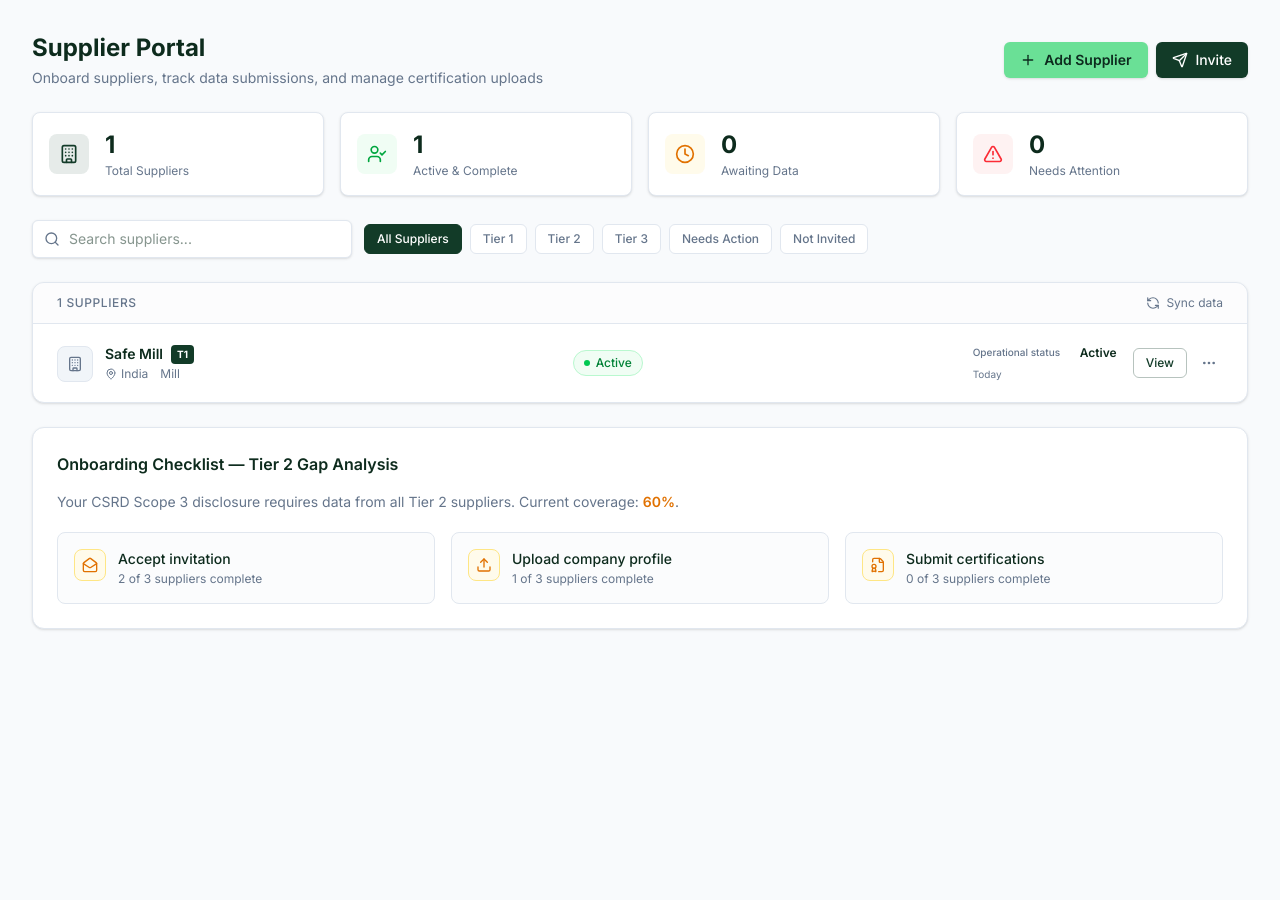
Test case: Supplier Portal access administration › maps active-access invite errors and never persists the generated token
The image size is (1280, 900).
Click the button with test id "button-invite-supplier" at coordinates (1202, 60), box [1156,42,1248,78]
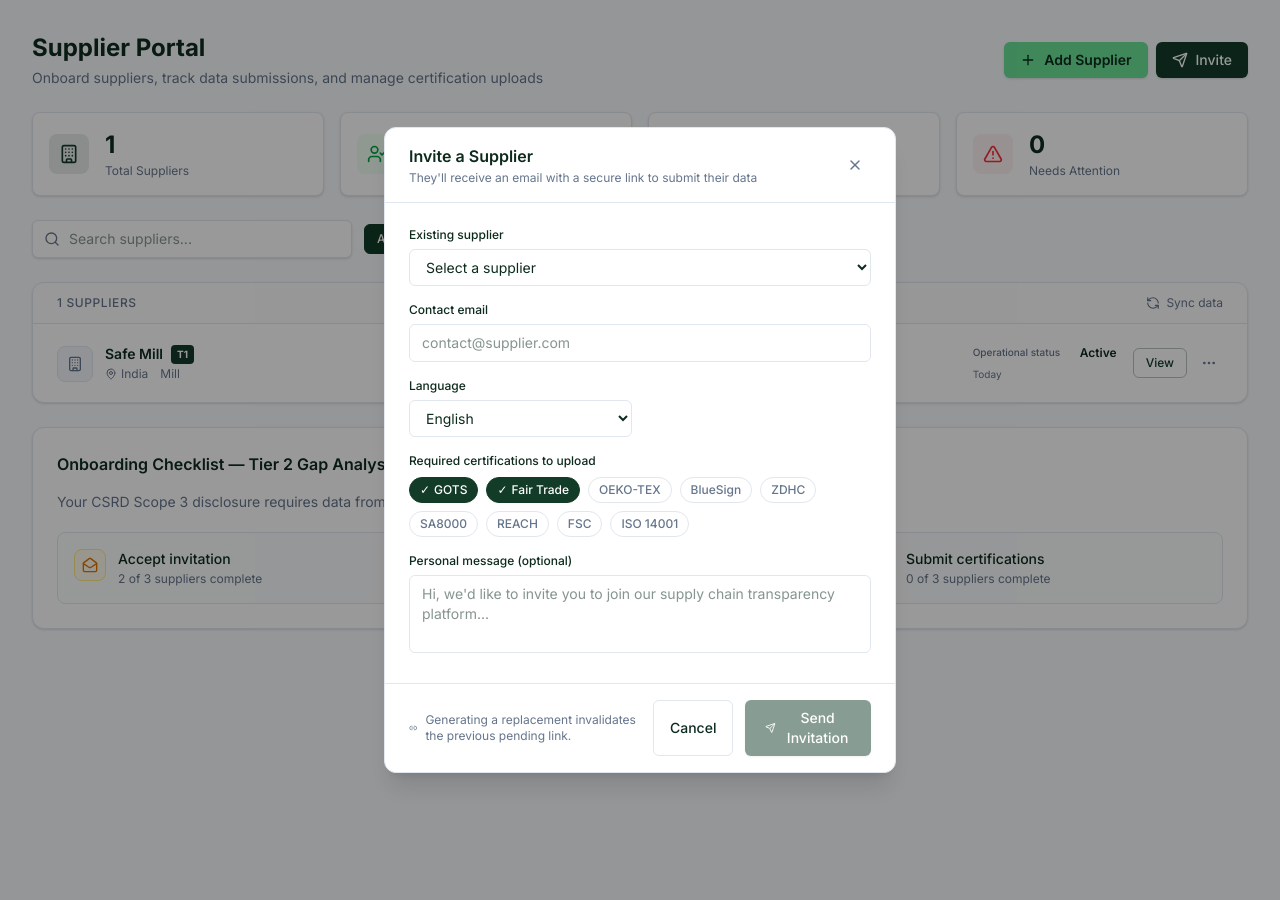
Select "Safe Mill" in the dropdown with test id "select-invite-supplier" at coordinates (640, 268), box [409,249,871,286]
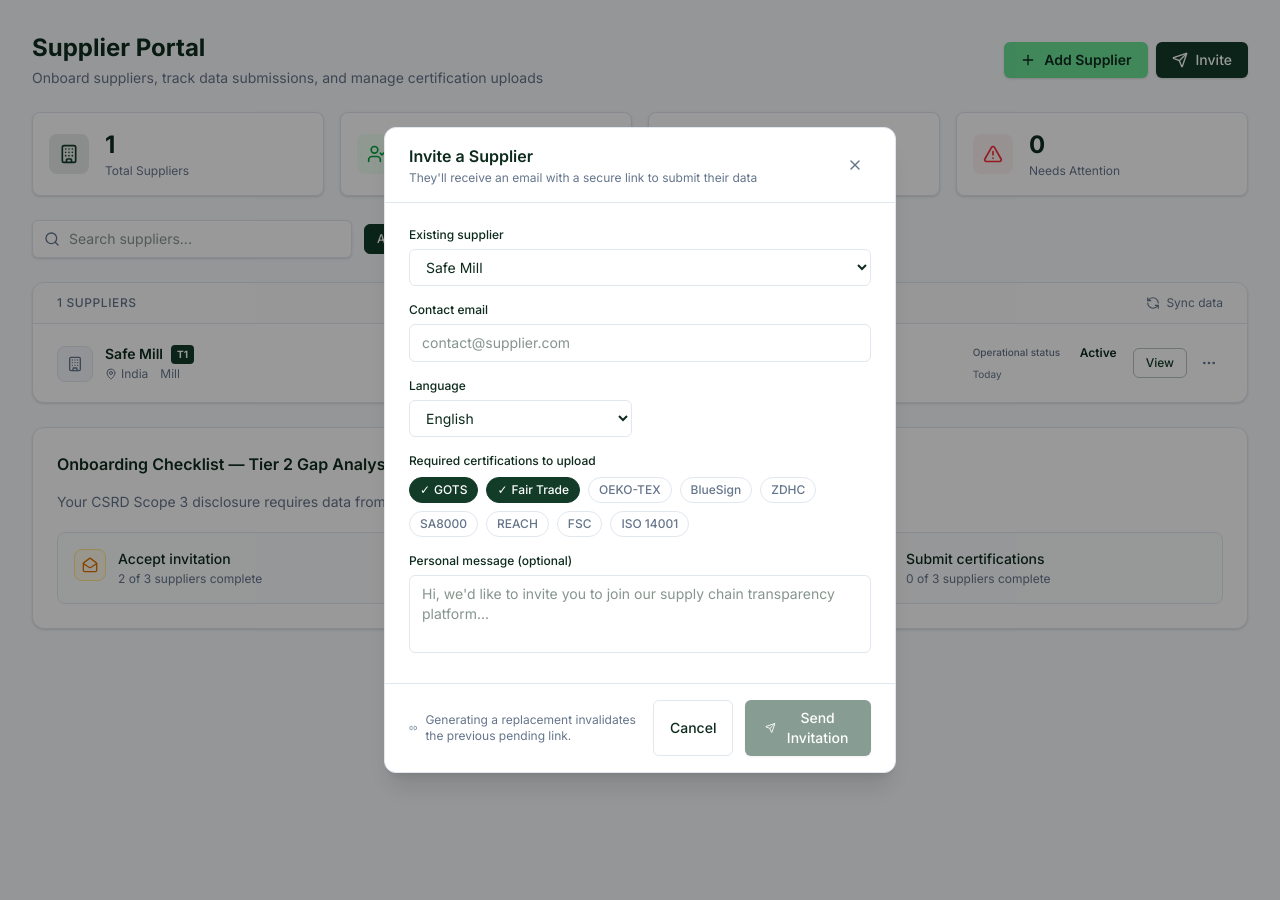
Type "alice@example.test" into the field with test id "input-invite-email" at coordinates (640, 343), box [409,324,871,362]
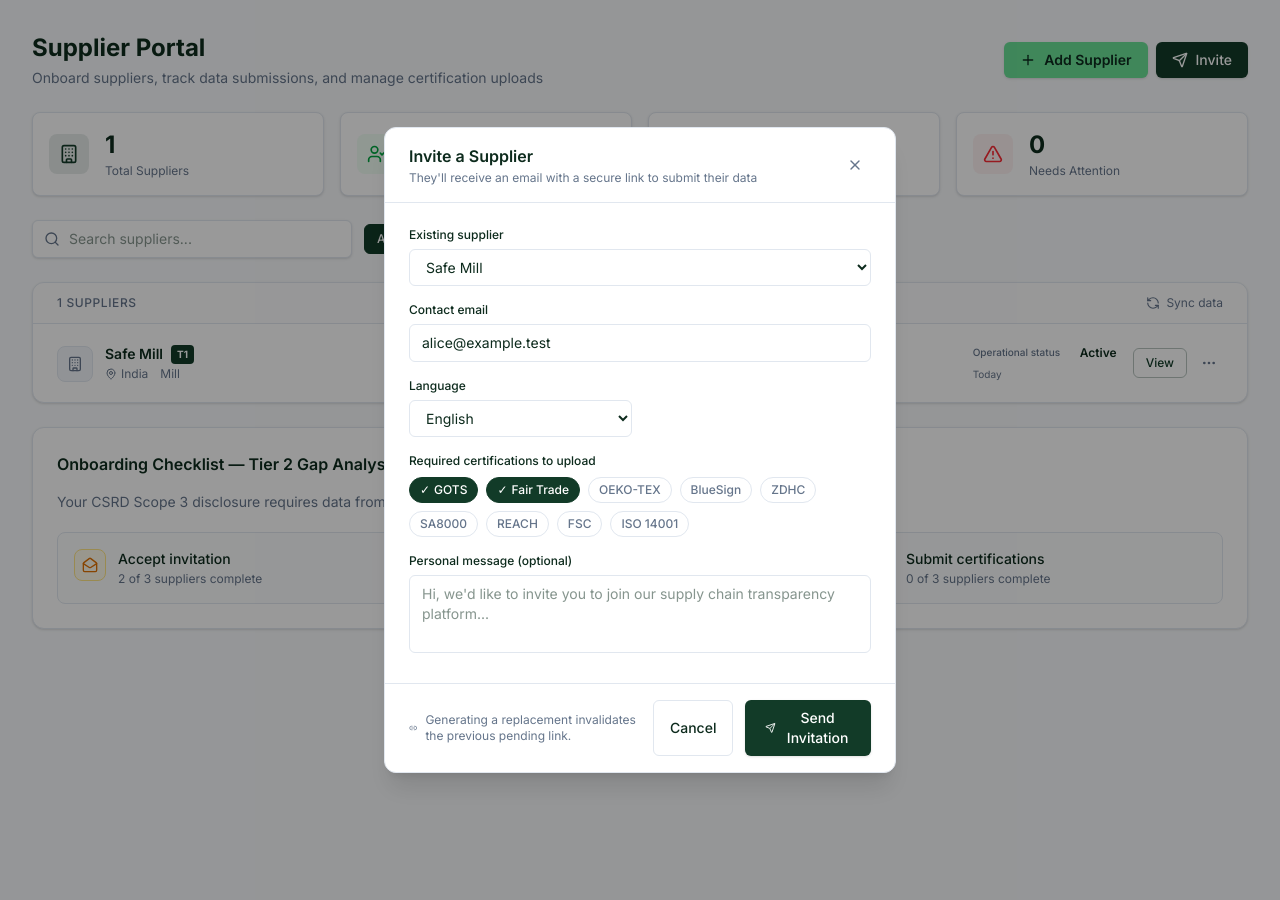
Click the button with test id "button-send-invite" at coordinates (808, 728), box [746,700,871,756]
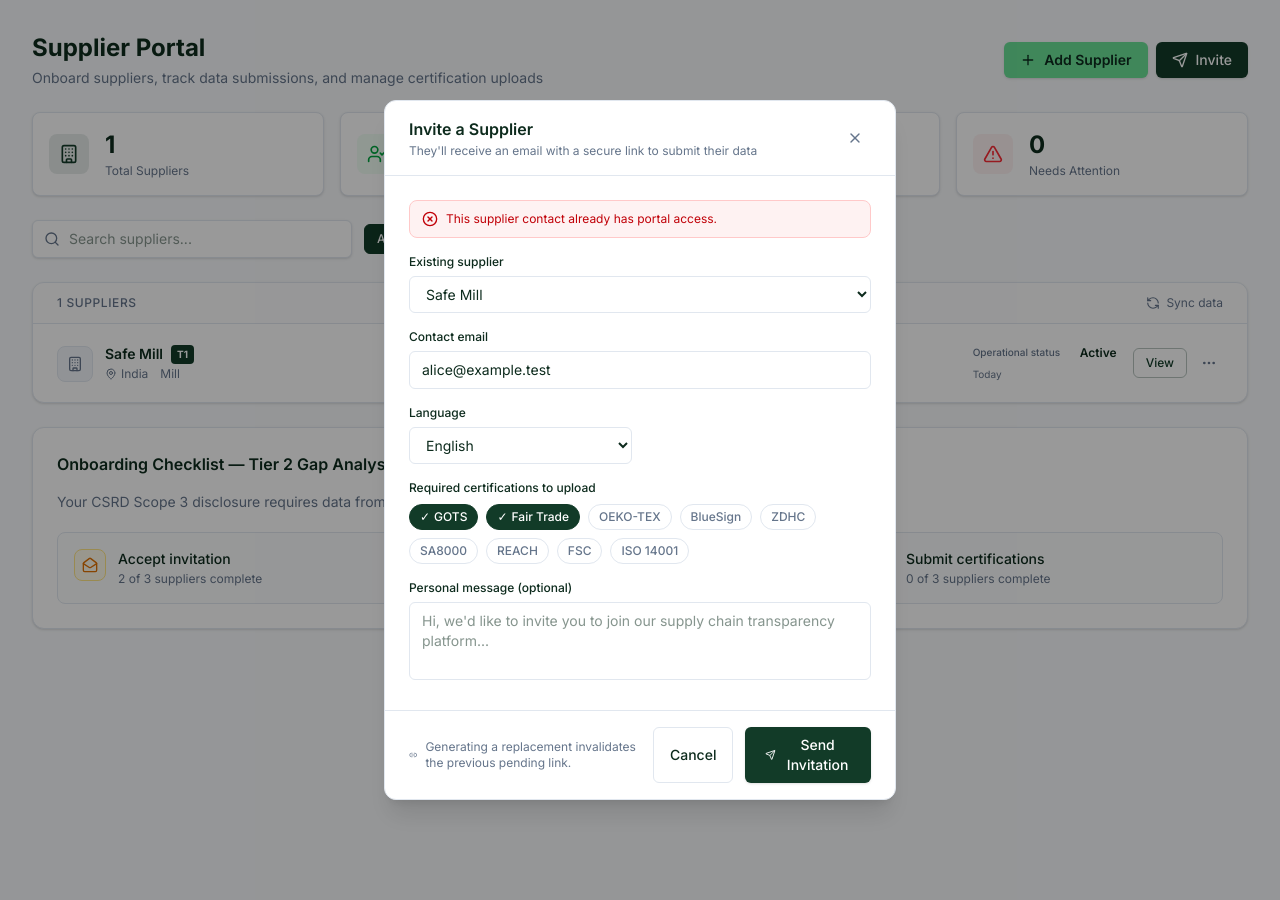
Expected: the text "This supplier contact already has portal access." is shown, [409,200,871,238]
